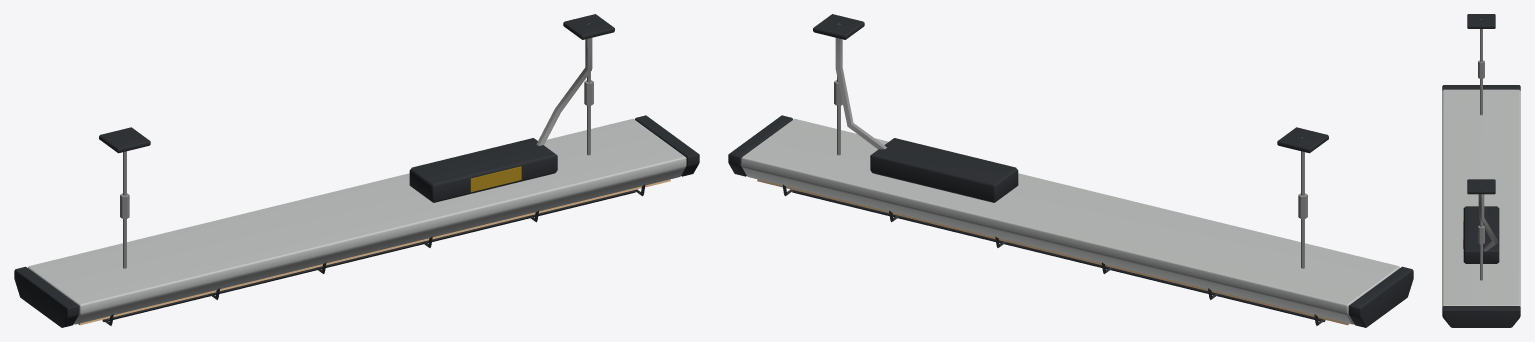
File: Metro_LampTube.fbx
The picture shows the model from 3 angles, left to right: view 1: azimuth 30°, elevation 25°; view 2: azimuth 150°, elevation 25°; view 3: azimuth 270°, elevation 25°; orthographic projection. The views are drawn at different scales.
Parts seen in each view (by area): view 1: Metro_LampTube_LOD0; view 2: Metro_LampTube_LOD0; view 3: Metro_LampTube_LOD0.
Boxes of the visible parts, <box> form: Metro_LampTube_LOD0: <box>14,14,699,327</box>; Metro_LampTube_LOD0: <box>728,14,1413,327</box>; Metro_LampTube_LOD0: <box>1442,14,1520,327</box>.
Size of what is drawn, in the model's own units: 1.5 by 0.3785 by 0.22.
